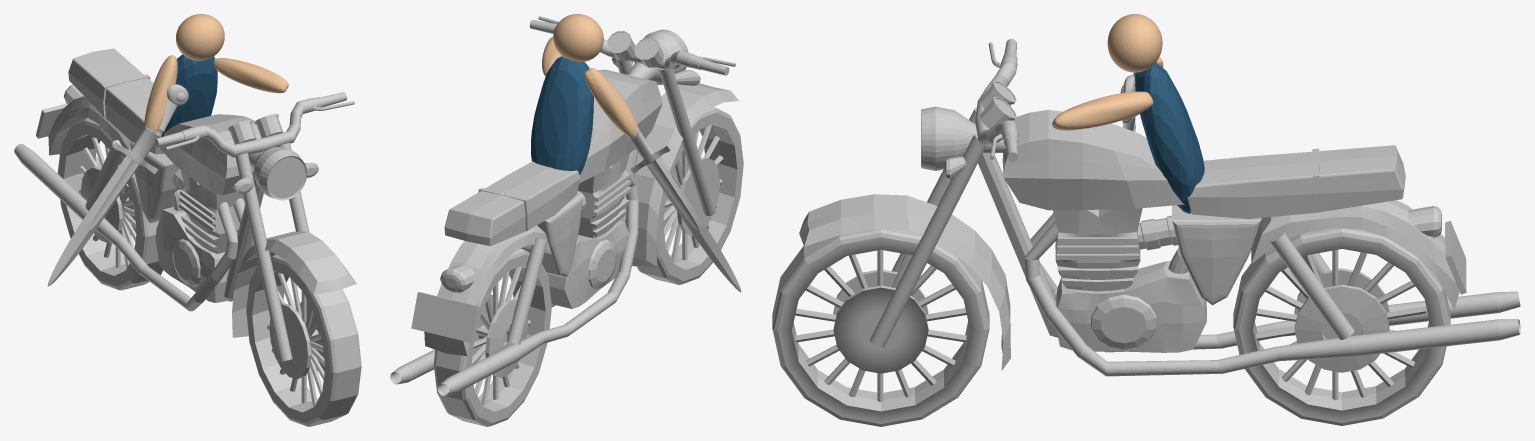
Rendered from bik.obj.
3 renders of one model, left to right at view 1: azimuth 30°, elevation 25°; view 2: azimuth 150°, elevation 25°; view 3: azimuth 270°, elevation 25°, orthographic. The views are drawn at different scales.
Parts seen in each view (by area): view 1: Front_wheel_Cylinder.001, Rear_wheel_Cylinder.001, Seat_Cube.002, Exhaust_left_Cylinder.001, Front_water_Cube.001, Dagger, Gas_Tank_Cube.001, Engine_1_Cube.001, Front_bumper_left_Cylinder.001, Steering_Cylinder.001, Engine_2_Cube.001, 立方体.005 (+16 smaller); view 2: Rear_wheel_Cylinder.001, Front_wheel_Cylinder.001, Seat_Cube.002, 立方体.005, Front_water_Cube.001, Exhaust_left_Cylinder.001, Gas_Tank_Cube.001, Rear_water_Cube.001, Engine_1_Cube.001, Dagger, Engine_2_Cube.001, Licence_plate_Cube.001 (+15 smaller); view 3: Front_wheel_Cylinder.001, Rear_wheel_Cylinder.001, Gas_Tank_Cube.001, Seat_Cube.002, Exhaust_right_Cylinder.001, Front_water_Cube.001, Engine_2_Cube.001, Engine_1_Cube.001, Rear_water_Cube.001, 立方体.005, Engine_3_Cube.001, Front_wheel_inside_Cylinder.001 (+14 smaller).
Part boxes in pixels (<box>): Front_wheel_Cylinder.001: <box>246,254,361,426</box>; Rear_wheel_Cylinder.001: <box>57,118,163,290</box>; Seat_Cube.002: <box>68,48,163,154</box>; Exhaust_left_Cylinder.001: <box>14,144,238,311</box>; Front_water_Cube.001: <box>232,231,356,337</box>; Dagger: <box>47,84,188,286</box>; Gas_Tank_Cube.001: <box>160,114,261,194</box>; Engine_1_Cube.001: <box>179,170,245,253</box>; Front_bumper_left_Cylinder.001: <box>235,153,292,361</box>; Steering_Cylinder.001: <box>155,92,347,157</box>; Engine_2_Cube.001: <box>155,207,232,302</box>; 立方体.005: <box>161,54,217,136</box>; Rear_wheel_Cylinder.001: <box>433,248,551,426</box>; Front_wheel_Cylinder.001: <box>636,107,743,284</box>; Seat_Cube.002: <box>444,161,580,246</box>; 立方体.005: <box>531,56,593,175</box>; Front_water_Cube.001: <box>625,83,738,266</box>; Exhaust_left_Cylinder.001: <box>437,168,638,395</box>; Gas_Tank_Cube.001: <box>579,69,662,183</box>; Rear_water_Cube.001: <box>424,225,551,355</box>; Engine_1_Cube.001: <box>578,153,631,238</box>; Dagger: <box>626,128,741,291</box>; Engine_2_Cube.001: <box>547,221,628,308</box>; Licence_plate_Cube.001: <box>411,292,479,342</box>; Front_wheel_Cylinder.001: <box>772,229,989,426</box>; Rear_wheel_Cylinder.001: <box>1233,228,1450,425</box>; Gas_Tank_Cube.001: <box>1002,109,1184,210</box>; Seat_Cube.002: <box>1187,145,1405,218</box>; Exhaust_right_Cylinder.001: <box>1024,221,1520,376</box>; Front_water_Cube.001: <box>799,194,1010,370</box>; Engine_2_Cube.001: <box>1055,261,1206,352</box>; Engine_1_Cube.001: <box>1053,208,1142,291</box>; Rear_water_Cube.001: <box>1251,200,1459,309</box>; 立方体.005: <box>1135,62,1204,213</box>; Engine_3_Cube.001: <box>1172,205,1261,305</box>; Front_wheel_inside_Cylinder.001: <box>795,250,966,402</box>.
Bounding box in the file's own units: 3.77 × 4.69 × 7.9.
